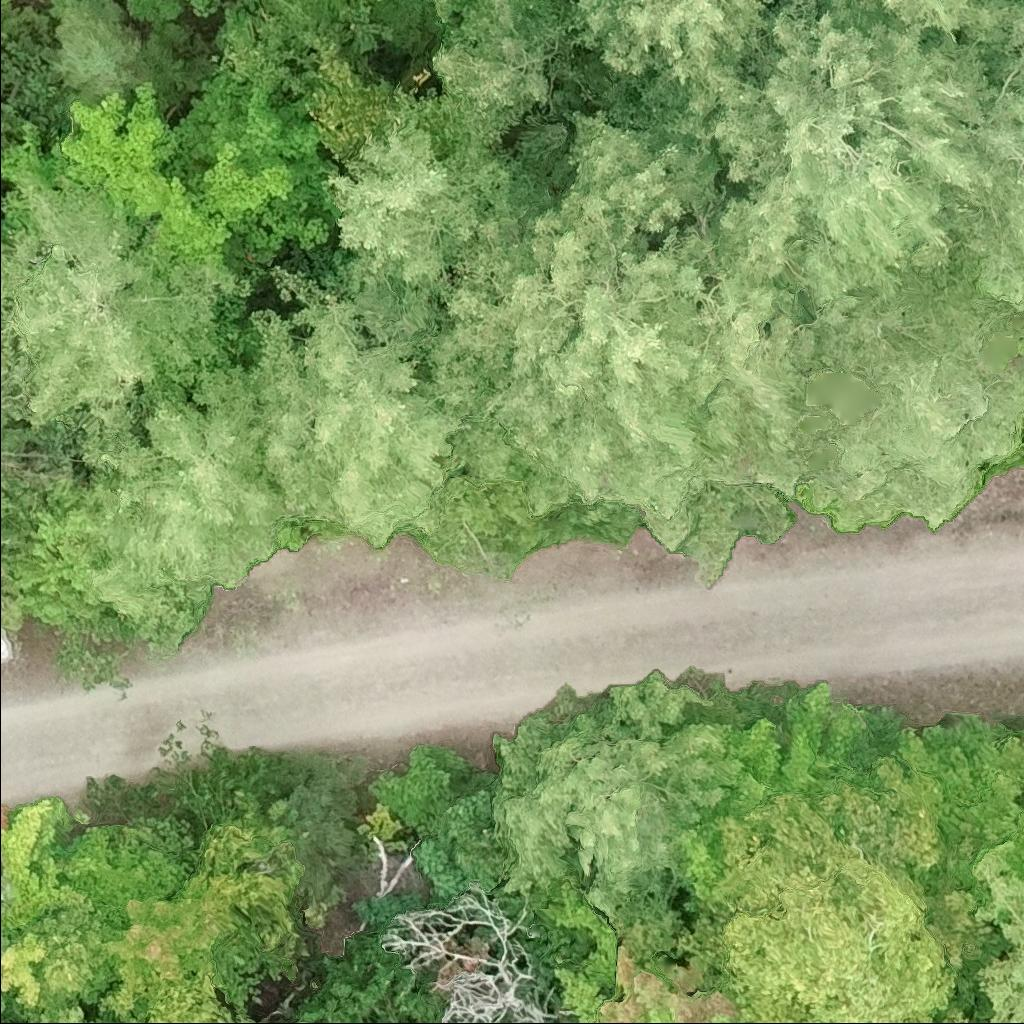crown: (421, 100, 724, 555), (682, 0, 1023, 325), (184, 266, 468, 548), (0, 162, 253, 469), (690, 749, 959, 1023), (790, 249, 1023, 532), (315, 85, 556, 350), (488, 670, 738, 924), (62, 389, 285, 617), (684, 228, 817, 581), (899, 723, 1023, 961), (558, 0, 775, 119), (724, 674, 899, 811), (431, 0, 576, 147), (181, 821, 309, 963), (99, 891, 224, 1021), (937, 159, 1023, 314), (580, 941, 739, 1023), (117, 962, 266, 1023), (867, 0, 1017, 53), (985, 0, 1023, 133), (26, 1003, 104, 1023), (1002, 811, 1023, 883), (930, 1004, 971, 1023), (433, 0, 467, 21), (0, 877, 19, 913), (0, 992, 7, 1023)
